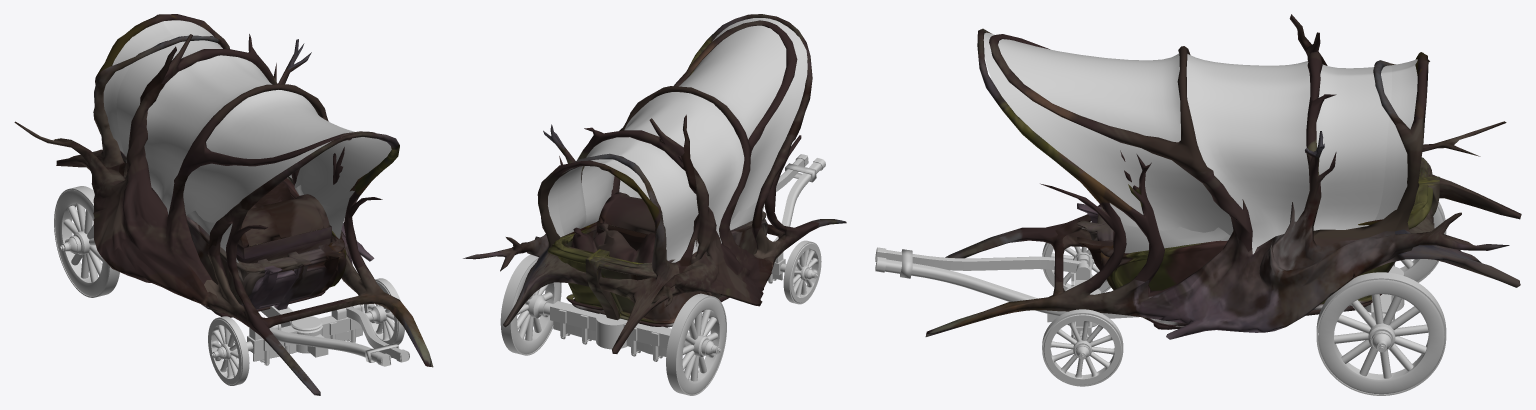
Rendered from wagon_01.fbx.
3 views of the same model, side by side, from view 1: azimuth 30°, elevation 25°; view 2: azimuth 150°, elevation 25°; view 3: azimuth 270°, elevation 25° (orthographic). The views are drawn at different scales.
Parts seen in each view (by area): view 1: Group60410, Mesh (2), Group9545, Mesh (7), Mesh (5), Mesh (4), Mesh (6), Mesh (2) (2), Mesh (5) (2), Mesh (2) (3), Mesh (11), Mesh (3) (2) (+2 smaller); view 2: Group60410, Mesh (2), Group9545, Mesh (7), Mesh (5), Mesh (4), Mesh (8), Mesh (4) (2), Mesh (2) (2), Mesh (6), Mesh (3) (2), Mesh (3); view 3: Group60410, Mesh (2), Mesh (7), Mesh (5), Mesh (4) (2), Group9545, Mesh (6), Mesh (2) (3), Mesh (4), Mesh (2) (2), Mesh (5) (2), Mesh (3).
Part boxes in pixels (box(x1,y1,x2,y2)): Group60410: box(14, 14, 433, 395); Mesh (2): box(183, 90, 391, 263); Group9545: box(120, 151, 346, 317); Mesh (7): box(144, 55, 292, 214); Mesh (5): box(103, 20, 222, 162); Mesh (4): box(54, 186, 119, 297); Mesh (6): box(269, 306, 409, 366); Mesh (2) (2): box(208, 316, 253, 385); Mesh (5) (2): box(247, 304, 363, 365); Mesh (2) (3): box(364, 278, 404, 344); Mesh (11): box(290, 316, 322, 353); Mesh (3) (2): box(59, 231, 90, 254); Group60410: box(463, 14, 846, 353); Mesh (2): box(619, 18, 807, 230); Group9545: box(547, 192, 767, 327); Mesh (7): box(582, 92, 744, 249); Mesh (5): box(548, 137, 698, 262); Mesh (4): box(666, 293, 726, 395); Mesh (8): box(550, 301, 671, 361); Mesh (4) (2): box(500, 254, 561, 355); Mesh (2) (2): box(780, 240, 821, 304); Mesh (6): box(773, 154, 825, 241); Mesh (3) (2): box(683, 332, 721, 356); Mesh (3): box(527, 294, 553, 318); Group60410: box(925, 14, 1521, 339); Mesh (2): box(983, 32, 1233, 253); Mesh (7): box(1186, 54, 1310, 254); Mesh (5): box(1313, 59, 1417, 230); Mesh (4) (2): box(1316, 272, 1446, 395); Group9545: box(1077, 146, 1439, 329); Mesh (6): box(875, 247, 1081, 315); Mesh (2) (3): box(1042, 309, 1123, 386); Mesh (4): box(1400, 201, 1446, 282); Mesh (2) (2): box(1042, 222, 1111, 293); Mesh (5) (2): box(1071, 252, 1091, 343); Mesh (3): box(1368, 313, 1395, 352).
Size of the model in its own units: 328 by 349 by 671.
